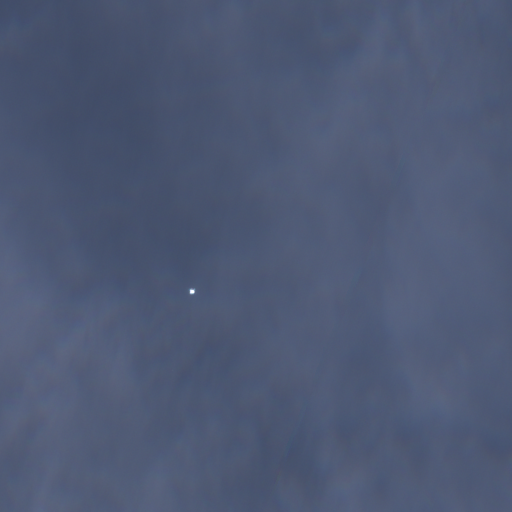Iceberg: (189, 288, 194, 294)
